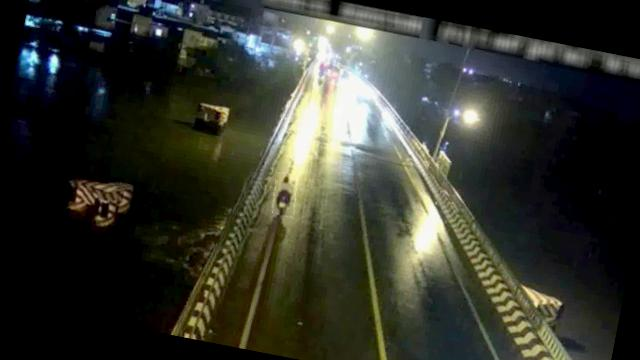Bike: (269, 171, 300, 218)
